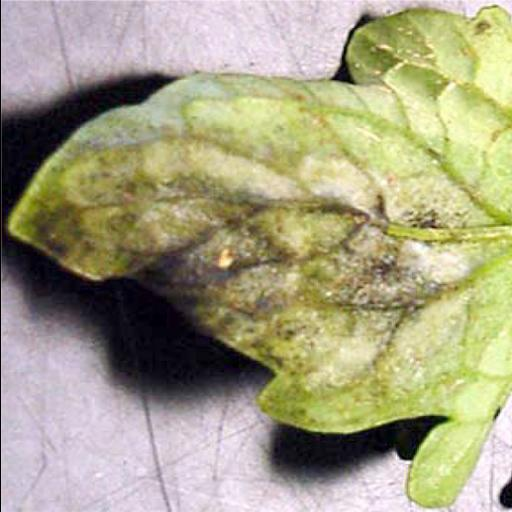Late Blight: (11, 10, 502, 506)
